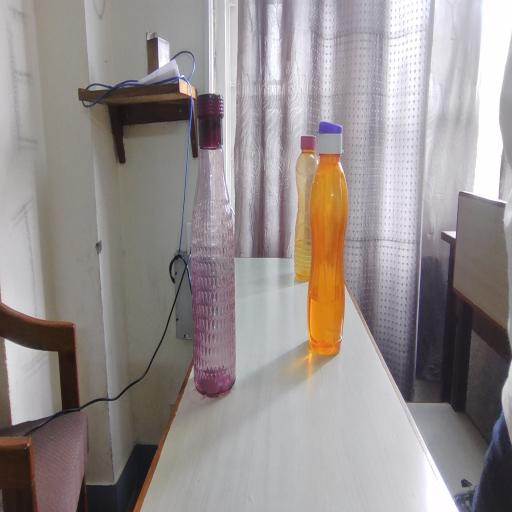Bottle: (185, 92, 251, 409)
